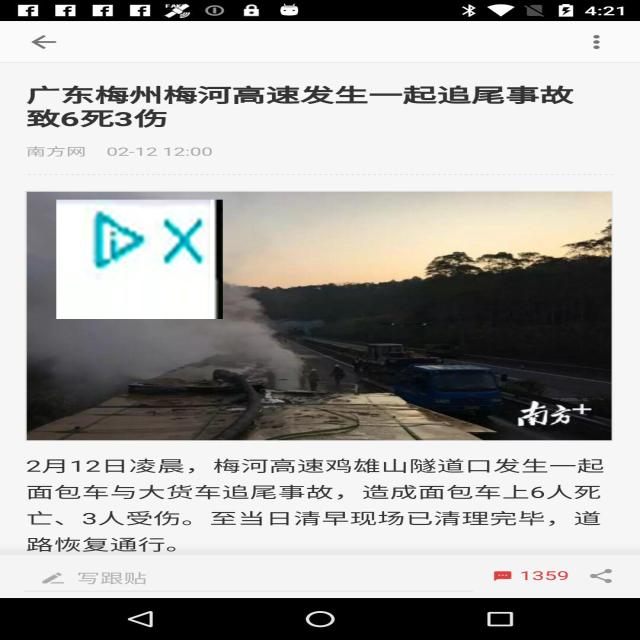sneaking: (56, 200, 223, 319)
